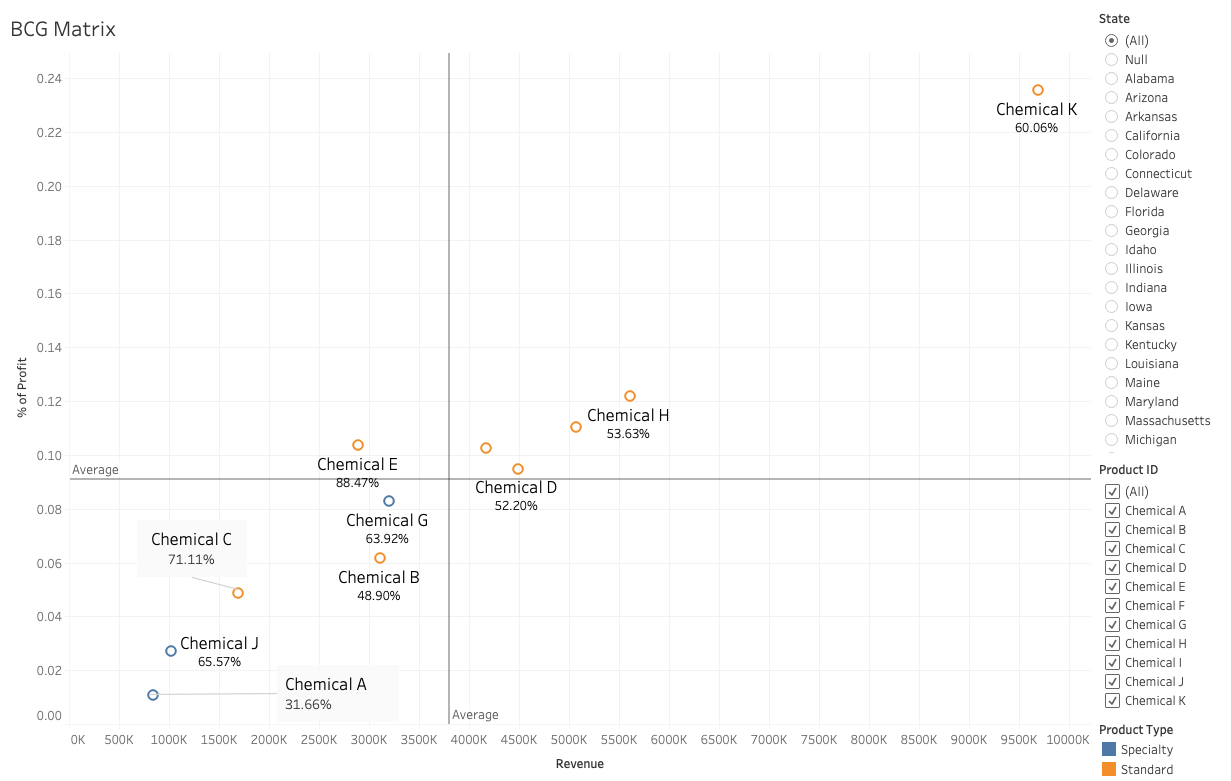

This screenshot's page, from the dashboard's own definition file:
{"tool":"tableau","page":{"name":"BCG","canvas":[1000,1000],"units":"permille","ordinal":1},"visuals":[{"type":"worksheet","title":"BCG Matrix","mark":"Automatic","rows":["Calculation_1709890164759138304"],"cols":["Revenue (total)"],"box":[0,0,906.4,1000]},{"type":"filter","title":"BCG Matrix","param":"[federated.0ownqyc0234dpv1h3ifv50r3poou].[none:State:nk]","box":[906.4,0,93.6,670]},{"type":"filter","title":"BCG Matrix","param":"[federated.0ownqyc0234dpv1h3ifv50r3poou].[none:Product ID:nk]","box":[906.4,670,93.6,263.2]},{"type":"legend","title":"BCG Matrix","param":"[federated.0ownqyc0234dpv1h3ifv50r3poou].[none:Product Type:nk]","box":[906.4,933.2,93.6,66.8]}]}

Visuals, with their boxes on the dashboard's canvas, which has no fixed pixel size, in thousandths of its width and height (x1, y1, x2, y2). These are canvas units, not pixel positions in the 1231x781 screenshot, which may show the page scaled, cropped or inside an application window:
"BCG Matrix" worksheet: 0:0:906:1000
"BCG Matrix" filter: 906:0:1000:670
"BCG Matrix" filter: 906:670:1000:933
"BCG Matrix" legend: 906:933:1000:1000
